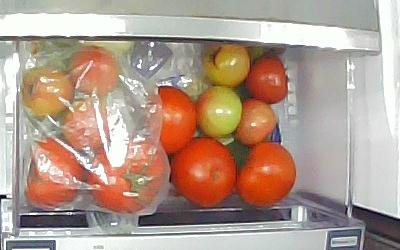tomato: (170, 136, 237, 208), (238, 144, 297, 208), (23, 67, 74, 116), (196, 86, 242, 138), (202, 42, 250, 88), (246, 53, 289, 104), (237, 98, 277, 146)
tomato_vinyl: (89, 136, 167, 213), (23, 138, 84, 209), (136, 86, 197, 154), (67, 46, 119, 94), (22, 68, 74, 115), (63, 99, 113, 147)
